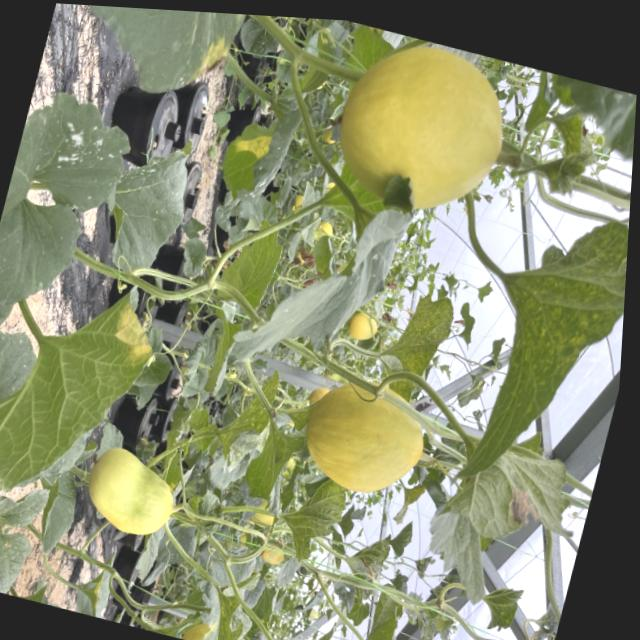CMV: (437, 173, 631, 518), (369, 280, 462, 410), (378, 273, 467, 384), (272, 469, 351, 569), (238, 415, 309, 513), (361, 599, 408, 640)
alternaria leaf blight: (0, 257, 165, 532), (415, 411, 592, 623), (56, 4, 248, 112), (388, 477, 427, 529)
downy mildew: (204, 83, 310, 217), (212, 366, 281, 479)
healthy: (191, 539, 275, 640)
powdery mildew: (0, 78, 141, 333), (91, 132, 198, 284), (0, 455, 52, 600)
